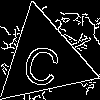C: (19, 34, 67, 90)
